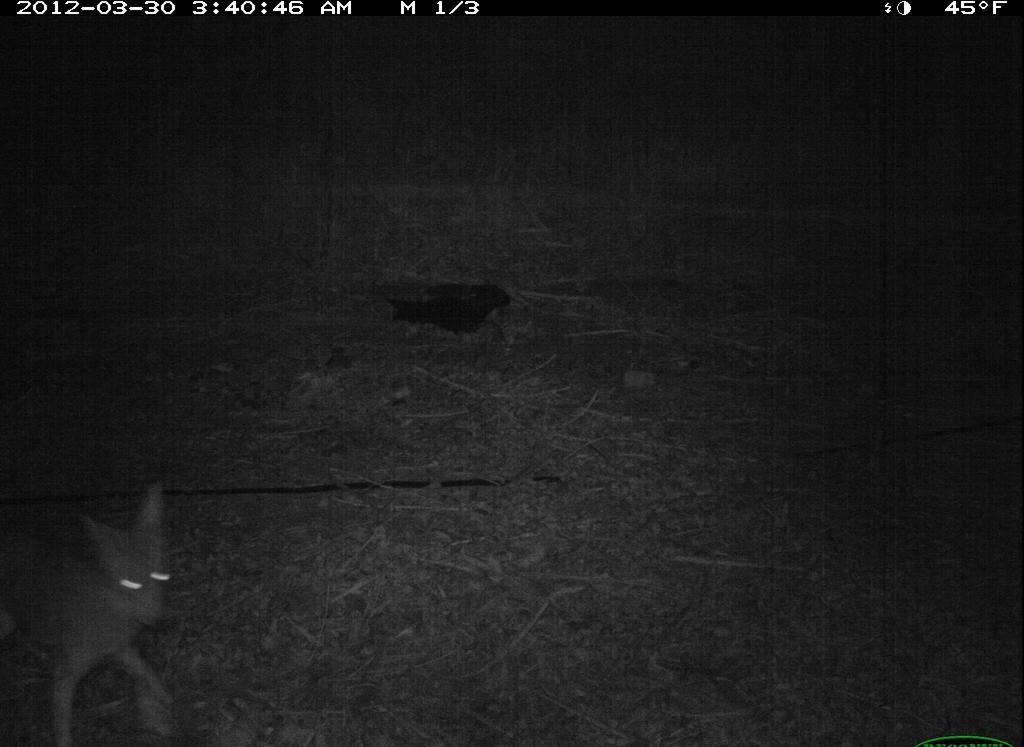coyote: (8, 478, 201, 747)
